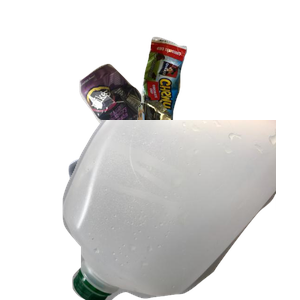glass: (66, 120, 300, 300)
metal: (77, 61, 222, 191)
plastic: (60, 120, 300, 300)
trash: (130, 34, 300, 203)
